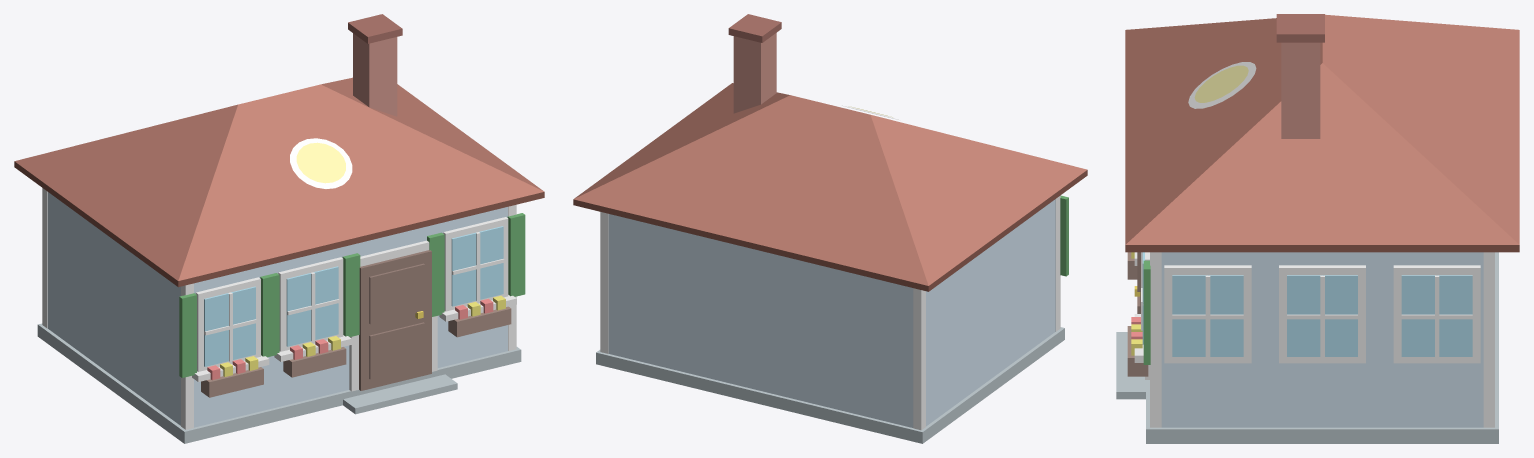
File: home_house.glb
3 renders of one model, left to right at view 1: azimuth 30°, elevation 25°; view 2: azimuth 150°, elevation 25°; view 3: azimuth 270°, elevation 25°, orthographic. The views are drawn at different scales.
Visible parts, largest first — view 1: Home_Roof, Home_Walls, Home_Plinth, Home_Door, Home_WinF1_Glass, Home_WinF3_Glass, Home_WinF0_Glass, Home_Chimney, Home_DoorPanelB, Home_DoorPanelA, Home_RoofEdgeFront, Home_Step (+19 smaller); view 2: Home_Walls, Home_Roof, Home_Plinth, Home_Chimney, Home_RoofEdgeBack, Home_Corner2, Home_Corner3, Home_RoofEdgeLeft, Home_ChimneyCap, Home_Corner0, Home_WinF0_ShL; view 3: Home_Roof, Home_Walls, Home_Plinth, Home_WinS2_Glass, Home_WinS0_Glass, Home_WinS1_Glass, Home_Chimney, Home_RoofEdgeRight, Home_WinS2_Frame, Home_WinS0_Frame, Home_WinS1_Frame, Home_Corner1 (+13 smaller).
Part boxes in pixels (box(x1,y1,x2,y2)): Home_Roof: box(14, 77, 544, 280); Home_Walls: box(47, 192, 507, 427); Home_Plinth: box(37, 323, 521, 443); Home_Door: box(359, 250, 431, 390); Home_WinF1_Glass: box(286, 266, 338, 346); Home_WinF3_Glass: box(451, 226, 503, 306); Home_WinF0_Glass: box(204, 286, 255, 366); Home_Chimney: box(353, 33, 397, 116); Home_DoorPanelB: box(369, 263, 424, 324); Home_DoorPanelA: box(369, 322, 424, 379); Home_RoofEdgeFront: box(175, 192, 544, 286); Home_Step: box(343, 374, 457, 414); Home_Walls: box(608, 199, 1055, 427); Home_Roof: box(574, 83, 1086, 285); Home_Plinth: box(596, 327, 1064, 443); Home_Chimney: box(733, 33, 776, 113); Home_RoofEdgeBack: box(573, 199, 931, 291); Home_Corner2: box(913, 288, 925, 430); Home_Corner3: box(600, 212, 608, 353); Home_RoofEdgeLeft: box(924, 170, 1087, 291); Home_ChimneyCap: box(728, 14, 781, 42); Home_Corner0: box(1055, 195, 1060, 331); Home_WinF0_ShL: box(1060, 195, 1068, 276); Home_Roof: box(1125, 14, 1519, 244); Home_Walls: box(1161, 252, 1483, 427); Home_Plinth: box(1146, 252, 1498, 443); Home_WinS2_Glass: box(1172, 275, 1243, 356); Home_WinS0_Glass: box(1401, 275, 1472, 356); Home_WinS1_Glass: box(1287, 275, 1357, 356); Home_Chimney: box(1281, 42, 1320, 138); Home_RoofEdgeRight: box(1125, 245, 1519, 252); Home_WinS2_Frame: box(1164, 265, 1251, 363); Home_WinS0_Frame: box(1393, 265, 1480, 363); Home_WinS1_Frame: box(1279, 265, 1365, 363); Home_Corner1: box(1150, 252, 1161, 427).
Size of the model in its own units: 4.44 by 3.58 by 3.52.
